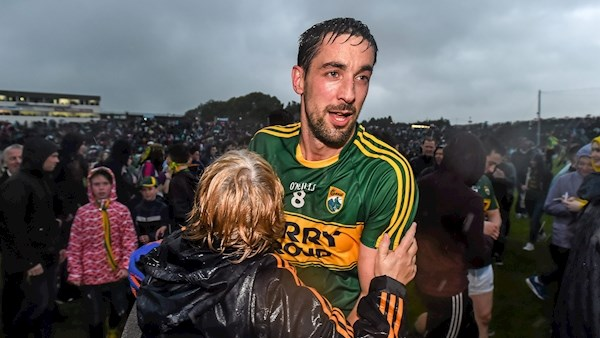player: (245, 13, 424, 303)
